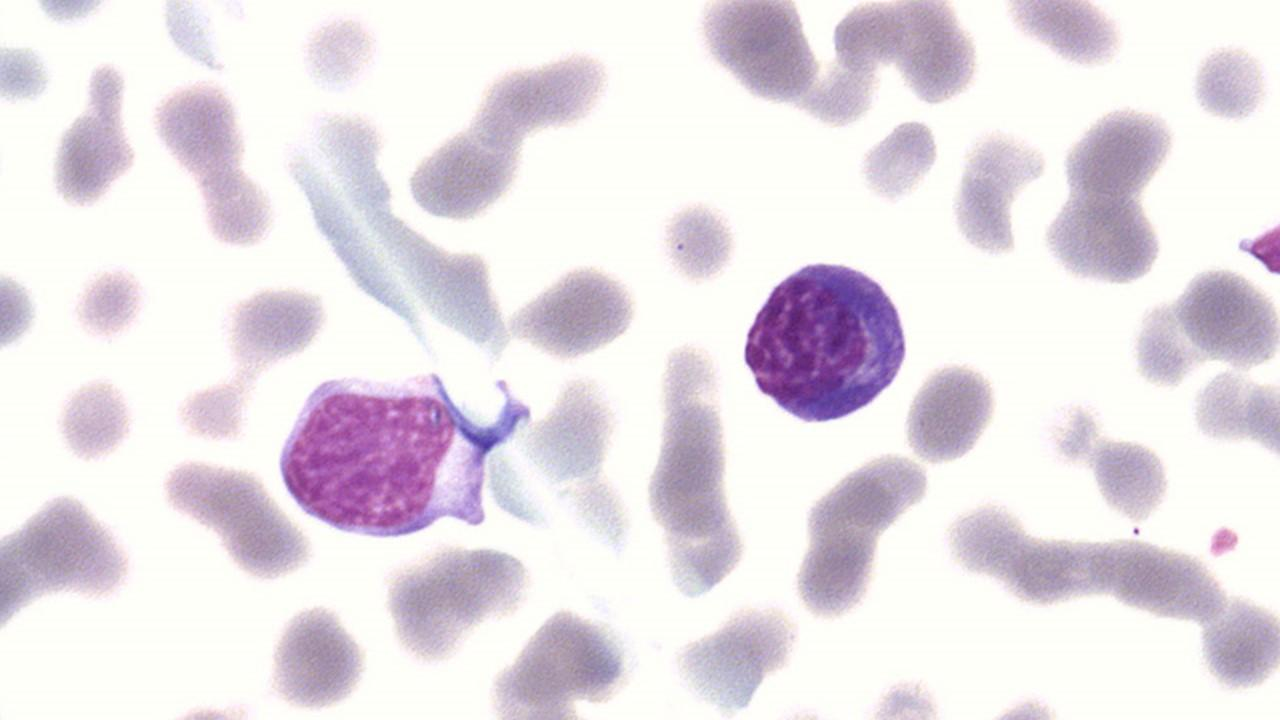Platelets: (264, 602, 368, 714), (898, 360, 1001, 466), (853, 115, 946, 207), (1183, 40, 1275, 130), (946, 169, 1020, 261), (0, 39, 53, 110), (0, 266, 41, 357), (1243, 374, 1279, 462), (1235, 217, 1279, 281)
WBC: (274, 366, 500, 548), (731, 253, 916, 426)
